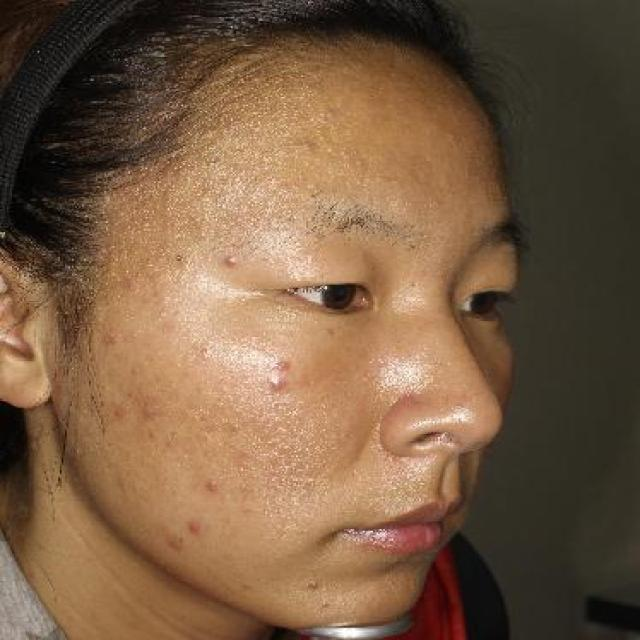papules: (185, 512, 207, 540), (219, 248, 243, 269), (269, 372, 289, 397), (300, 575, 324, 594), (204, 476, 224, 496), (115, 399, 130, 423)
